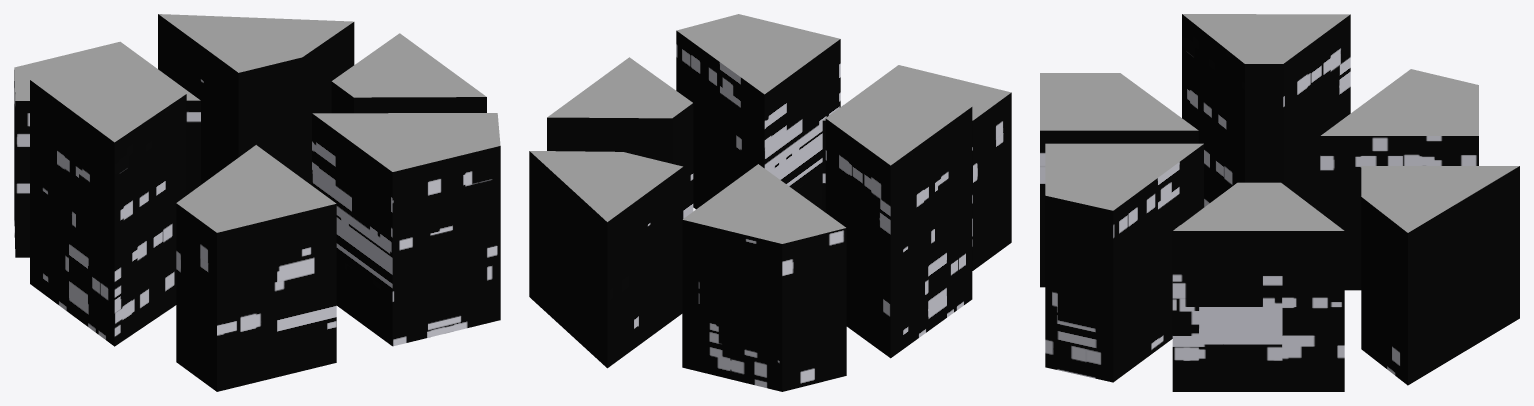
File: Downtown08.fbx
3 views of the same model, side by side, from view 1: azimuth 30°, elevation 25°; view 2: azimuth 150°, elevation 25°; view 3: azimuth 270°, elevation 25° (orthographic). The views are drawn at different scales.
Visible parts, largest first — view 1: Downtown08; view 2: Downtown08; view 3: Downtown08.
Part boxes in pixels (box(x1,y1,x2,y2)): Downtown08: box(14, 14, 500, 391); Downtown08: box(529, 14, 1011, 391); Downtown08: box(1040, 14, 1519, 391).
Size of the model in its own units: 1.32 by 0.6998 by 1.51.
2 materials, 1 textured.
